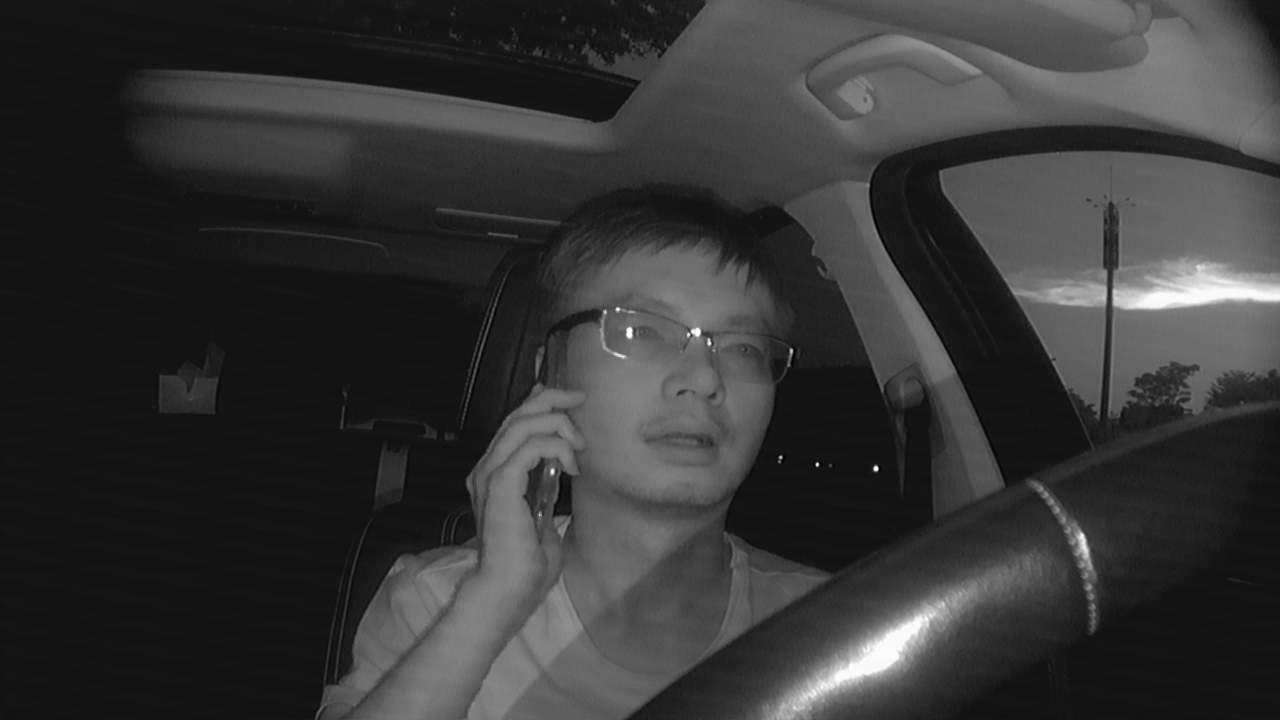hand: (452, 382, 574, 592)
